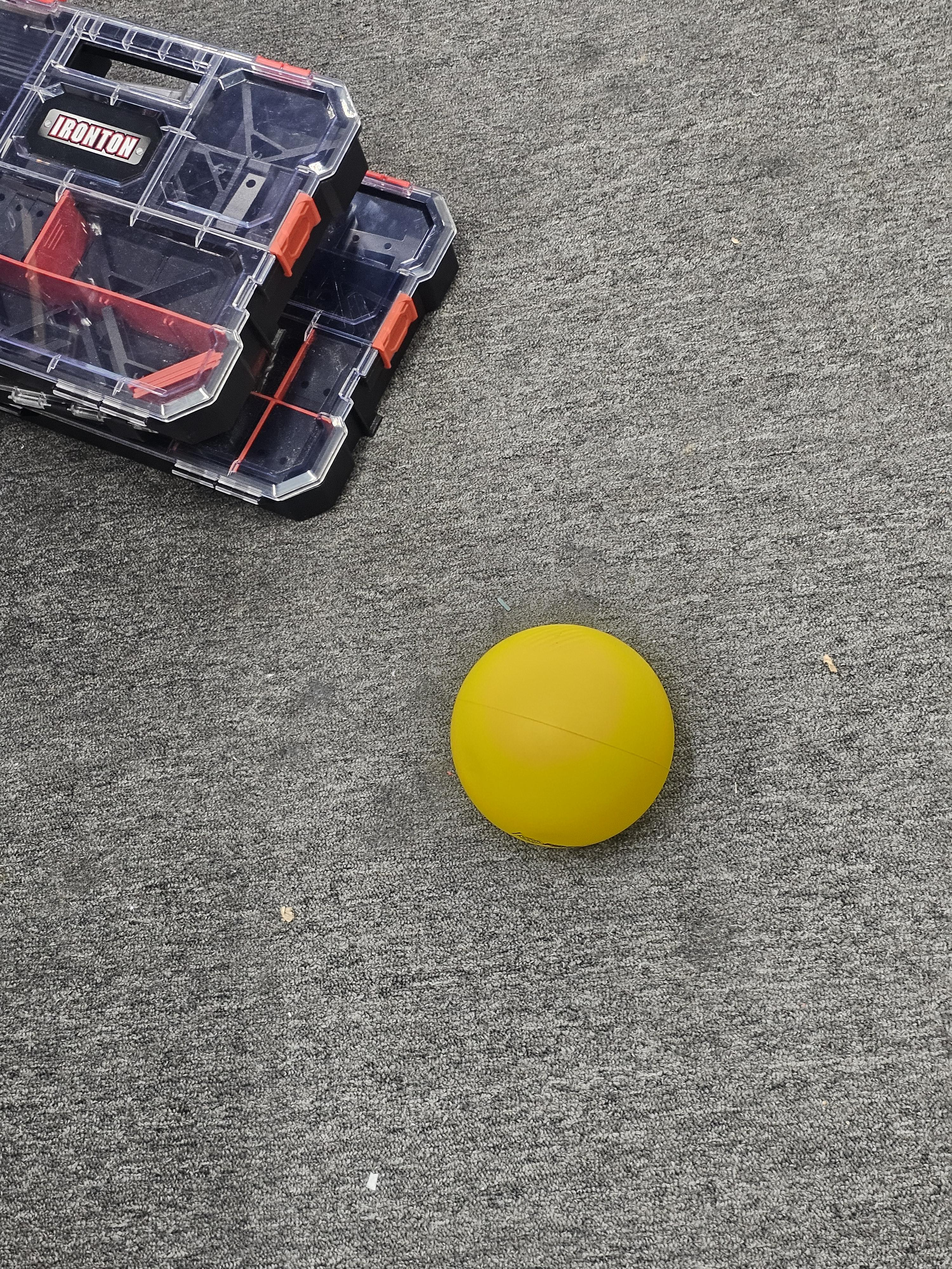fuel: (443, 616, 684, 862)
